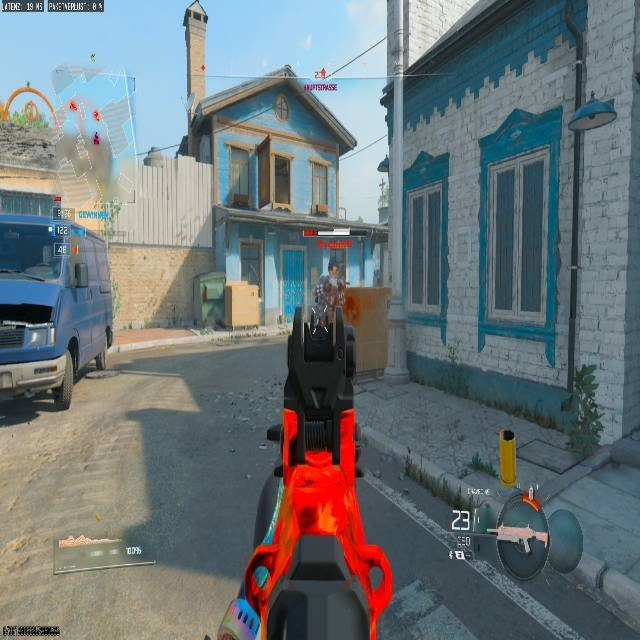head: (328, 261, 339, 276)
player: (313, 261, 347, 331)
